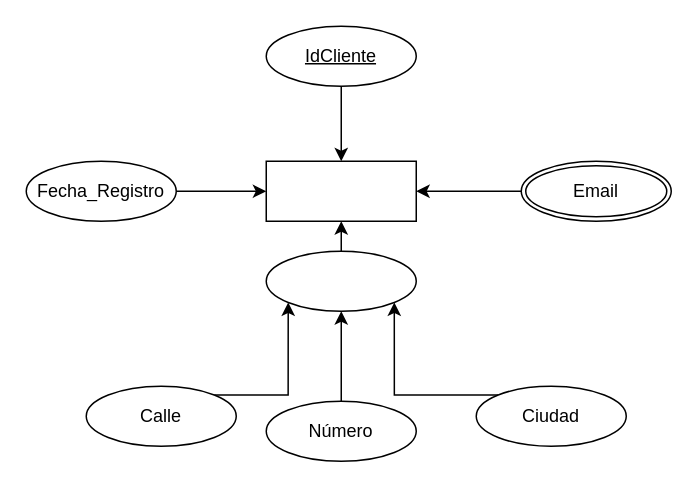
Some shapes in this 698 by 488 pixel diagram are drawn without their labels. Each missing label, with the centre of its shape:
Cliente: (x=340, y=190)
Dirección: (x=340, y=280)
